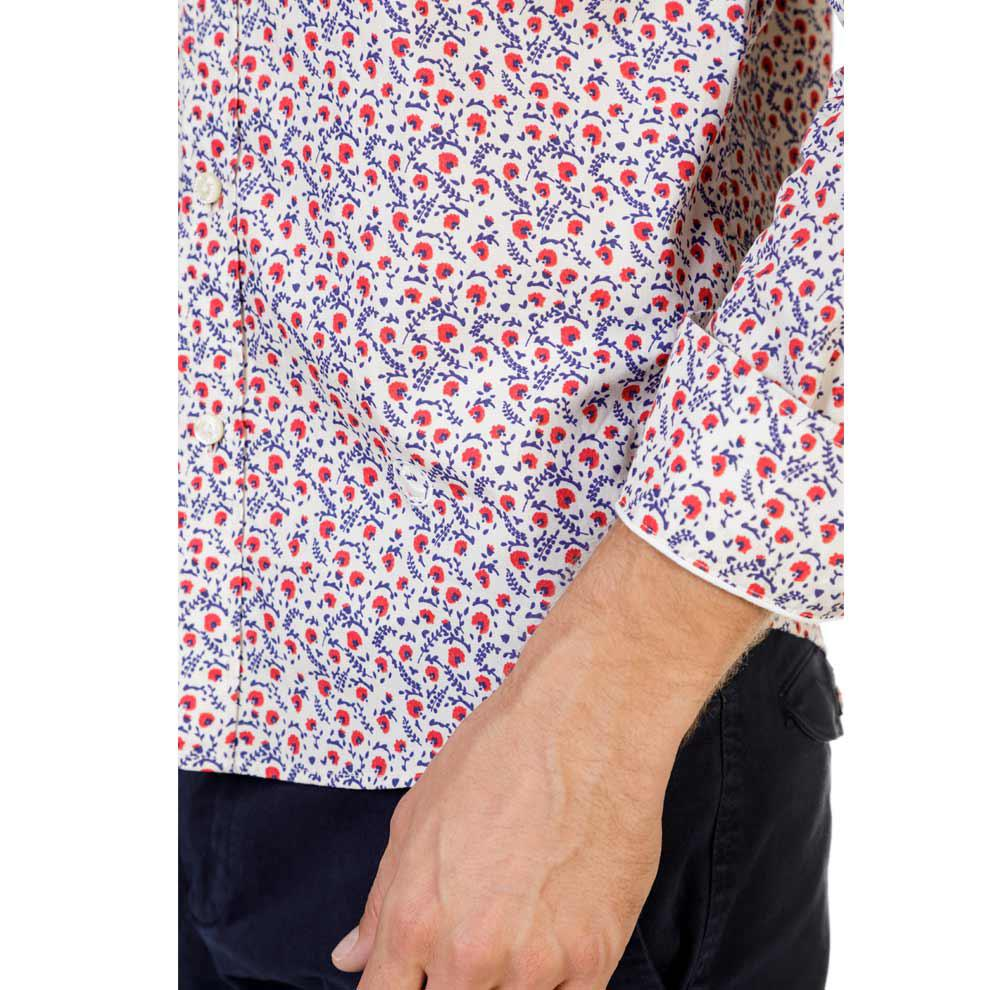teeshirt: (155, 1, 849, 804)
